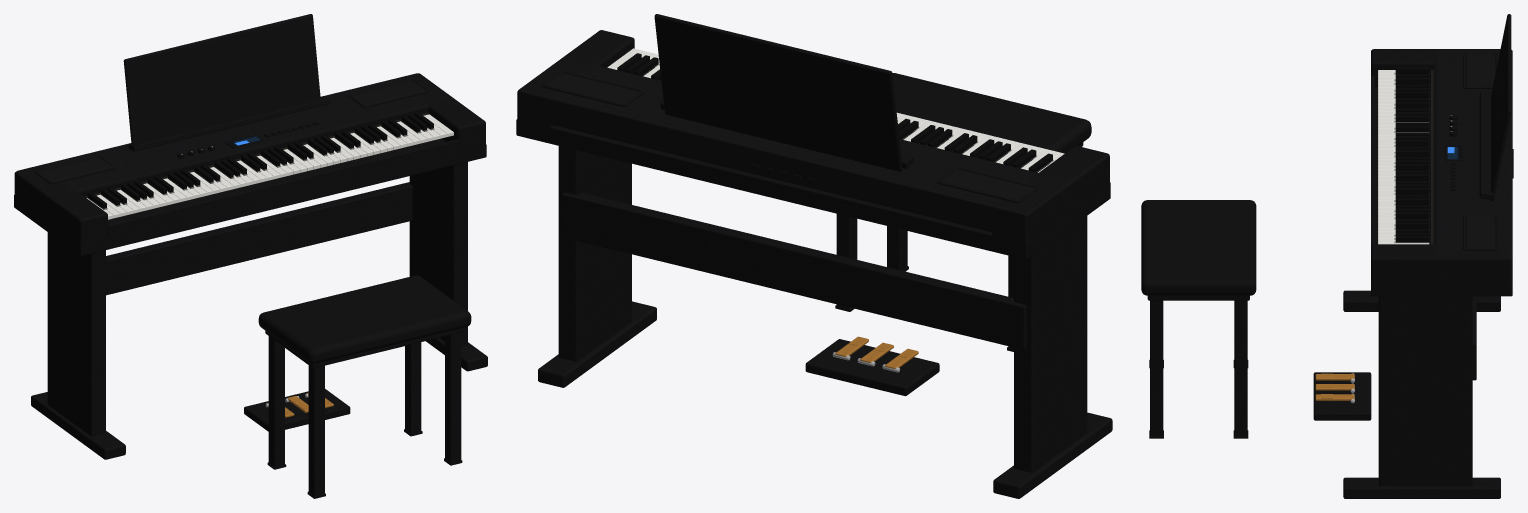
Rendered from KeyboardDigital88.glb.
3 views of the same model, side by side, from view 1: azimuth 30°, elevation 25°; view 2: azimuth 150°, elevation 25°; view 3: azimuth 270°, elevation 25° (orthographic). The views are drawn at different scales.
Parts seen in each view (by area): view 1: MusicRest_Board, Stand_Crossbar, Bench_Cushion, Stand_Left, Controls_Panel, Case_Base, Stand_Right, Case_FrontRail, Case_Cheek_Left, Case_Cheek_Right, Bench_Leg_Left_Front, Bench_Leg_Right_Front (+10 smaller); view 2: MusicRest_Board, Stand_Crossbar, Controls_Panel, Stand_Left, Stand_Right, Case_Base, Bench_Cushion, Case_Cheek_Left, Pedals_Base, Case_Cheek_Right, Stand_Foot_Left, Stand_Foot_Right (+4 smaller); view 3: Stand_Right, Bench_Cushion, Controls_Panel, Case_Cheek_Right, Case_Base, Stand_Foot_Right, MusicRest_Board, Pedals_Base, Bench_Leg_Right_Rear, Bench_Leg_Right_Front, Case_Cheek_Left, MusicRest_Ledge (+8 smaller).
Boxes of the visible parts, bbox=[...] form: MusicRest_Board: bbox=[123, 14, 320, 151]; Stand_Crossbar: bbox=[106, 182, 412, 295]; Bench_Cushion: bbox=[258, 275, 471, 363]; Stand_Left: bbox=[47, 232, 105, 436]; Controls_Panel: bbox=[17, 73, 451, 206]; Case_Base: bbox=[14, 129, 486, 255]; Stand_Right: bbox=[409, 162, 467, 346]; Case_FrontRail: bbox=[108, 139, 458, 236]; Case_Cheek_Left: bbox=[14, 166, 107, 251]; Case_Cheek_Right: bbox=[395, 73, 485, 161]; Bench_Leg_Left_Front: bbox=[308, 365, 324, 496]; Bench_Leg_Right_Front: bbox=[445, 332, 461, 462]; MusicRest_Board: bbox=[654, 14, 902, 171]; Stand_Crossbar: bbox=[561, 192, 1026, 349]; Controls_Panel: bbox=[519, 58, 1066, 235]; Stand_Left: bbox=[1014, 216, 1087, 472]; Stand_Right: bbox=[558, 146, 631, 361]; Case_Base: bbox=[516, 71, 1110, 259]; Bench_Cushion: bbox=[892, 73, 1091, 153]; Case_Cheek_Left: bbox=[992, 146, 1109, 255]; Pedals_Base: bbox=[805, 339, 939, 396]; Case_Cheek_Right: bbox=[517, 30, 634, 138]; Stand_Foot_Left: bbox=[993, 412, 1112, 498]; Stand_Foot_Right: bbox=[538, 301, 656, 387]; Stand_Right: bbox=[1378, 296, 1472, 486]; Bench_Cushion: bbox=[1141, 200, 1256, 295]; Controls_Panel: bbox=[1436, 50, 1512, 257]; Case_Cheek_Right: bbox=[1371, 244, 1512, 293]; Case_Base: bbox=[1371, 87, 1512, 296]; Stand_Foot_Right: bbox=[1343, 477, 1500, 498]; MusicRest_Board: bbox=[1490, 14, 1511, 200]; Pedals_Base: bbox=[1313, 372, 1371, 420]; Bench_Leg_Right_Rear: bbox=[1234, 300, 1247, 435]; Bench_Leg_Right_Front: bbox=[1150, 300, 1163, 435]; Case_Cheek_Left: bbox=[1371, 49, 1500, 87]; MusicRest_Ledge: bbox=[1479, 92, 1492, 199].
Bounding box in the file's own units: 1.4 × 1.05 × 1.05.
98 materials, 98 textured.
